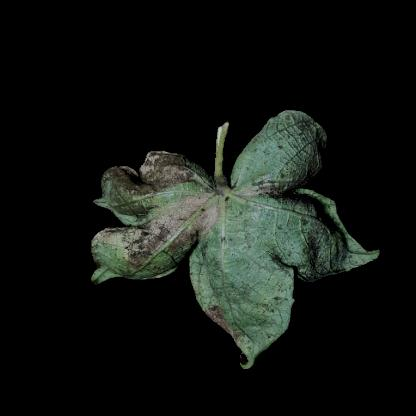curl_stage2: (228, 203, 284, 290), (237, 299, 265, 335), (240, 153, 278, 172)
sooty: (127, 154, 193, 266), (305, 210, 345, 276), (253, 174, 319, 213), (285, 116, 319, 172), (208, 241, 226, 320)
